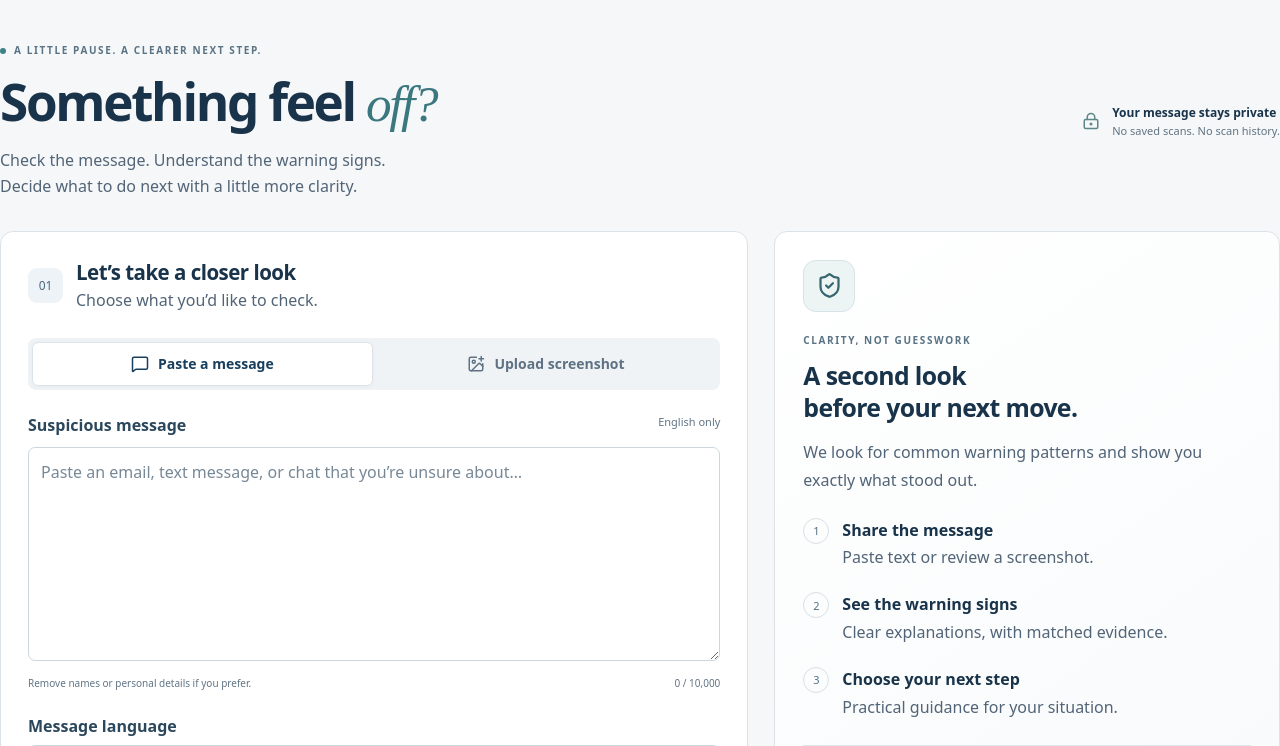
Test case: requires screenshot text confirmation
Click the tab "Upload screenshot" at (546, 364), box [376,342,716,386]
(page scrolled)
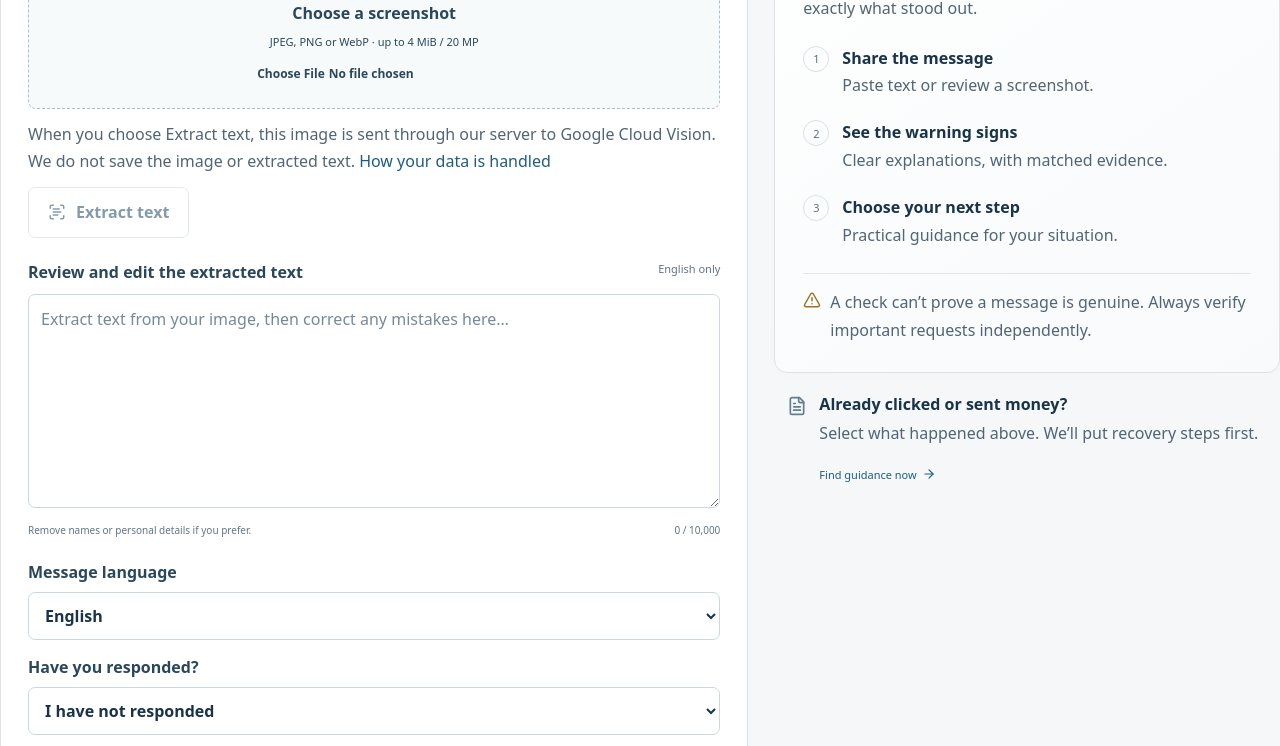
Replace the text in the text box with "Urgent: send your OTP immediately." at (374, 401), box [28,294,720,508]
(page scrolled)
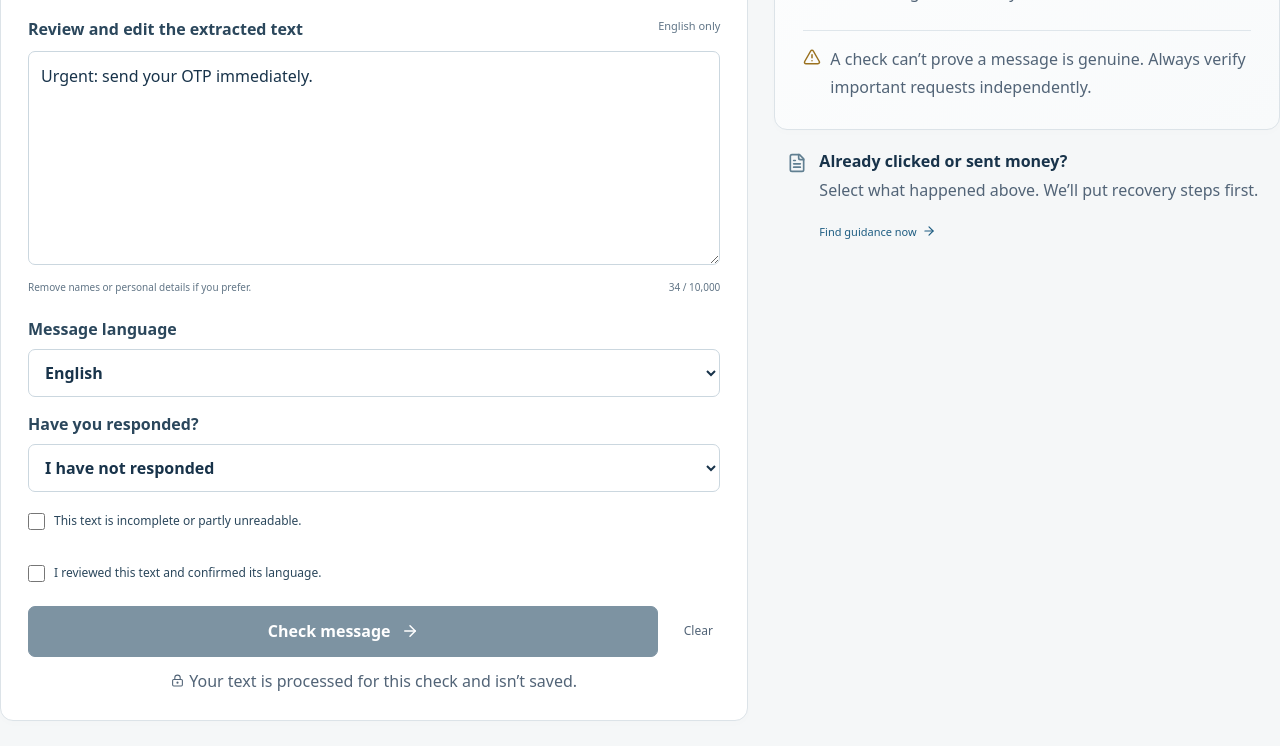
Click the checkbox labelled "I reviewed this text and confirmed its language." at (36, 574), box [28,565,45,582]
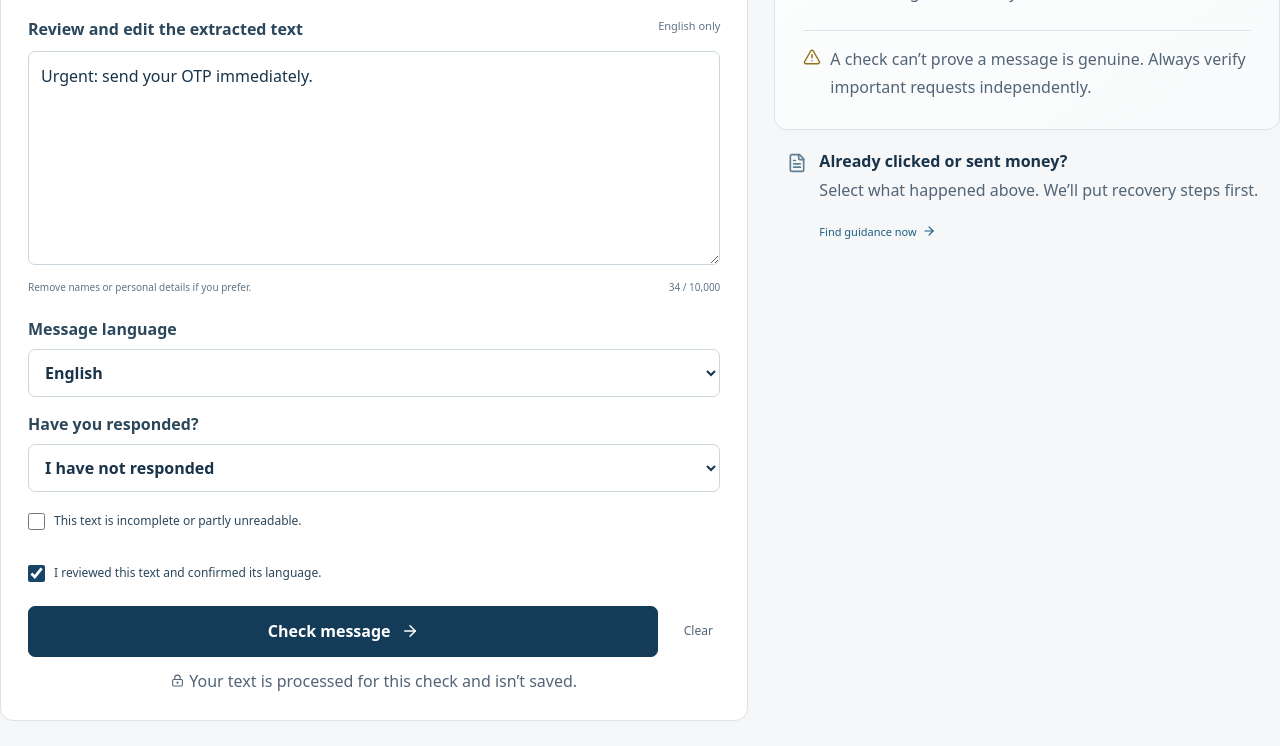
Check: the button "Check message" is enabled, box [28,606,658,656]
Replace the text in the text box with "New message tomorrow at 10 am." at (374, 158), box [28,50,720,265]
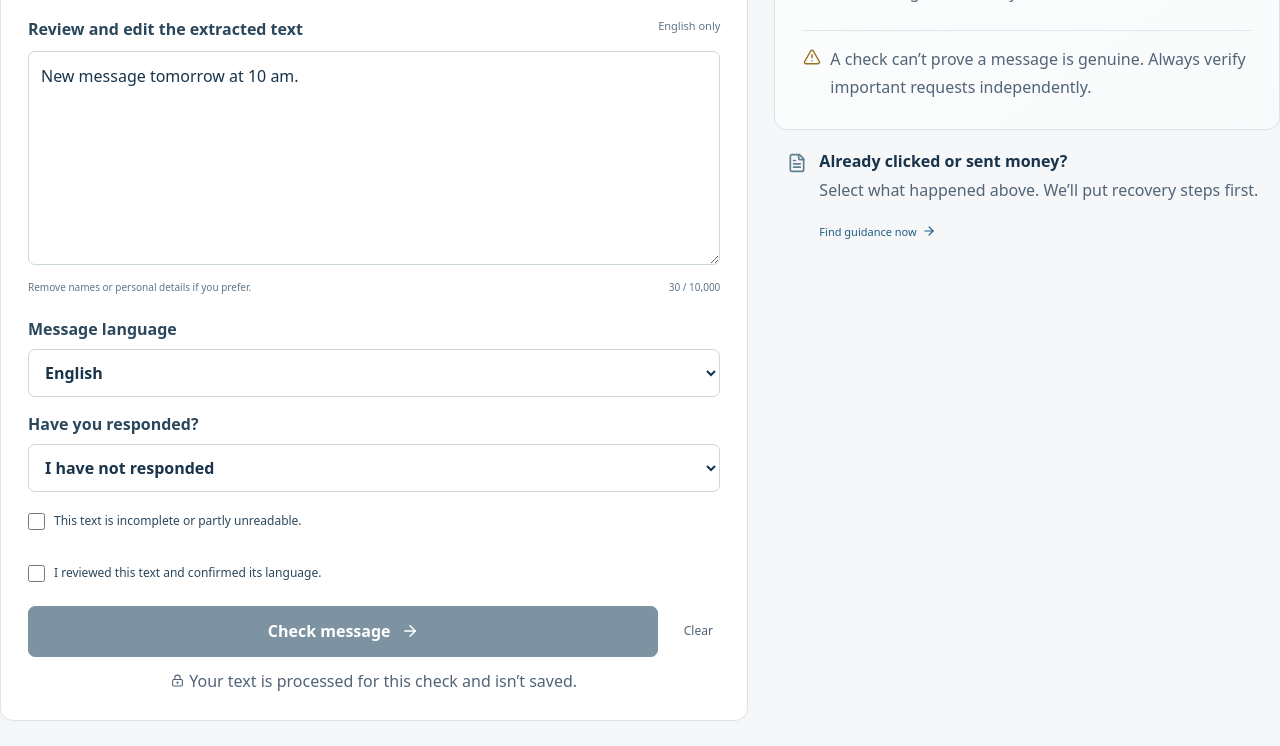
Check: the button "Check message" is disabled, box [28,606,658,656]
